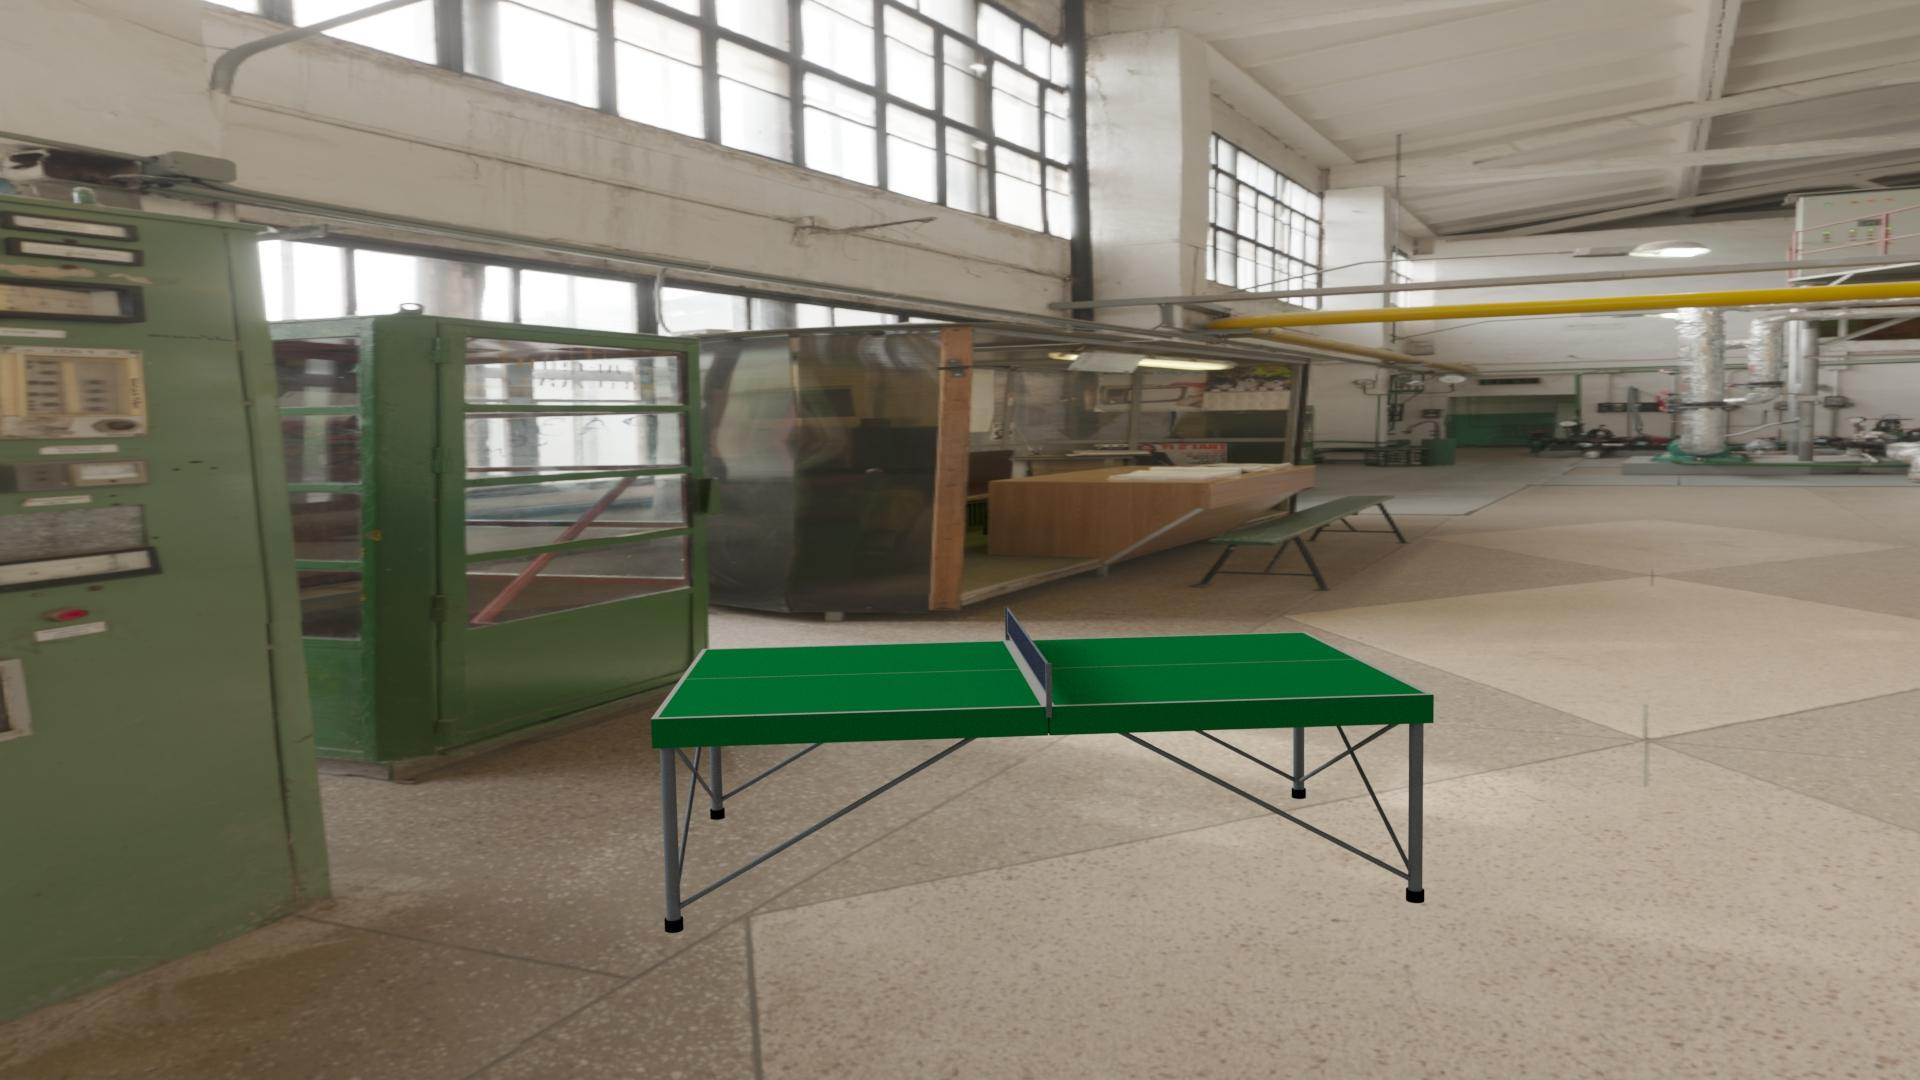table: (658, 633, 1427, 717)
